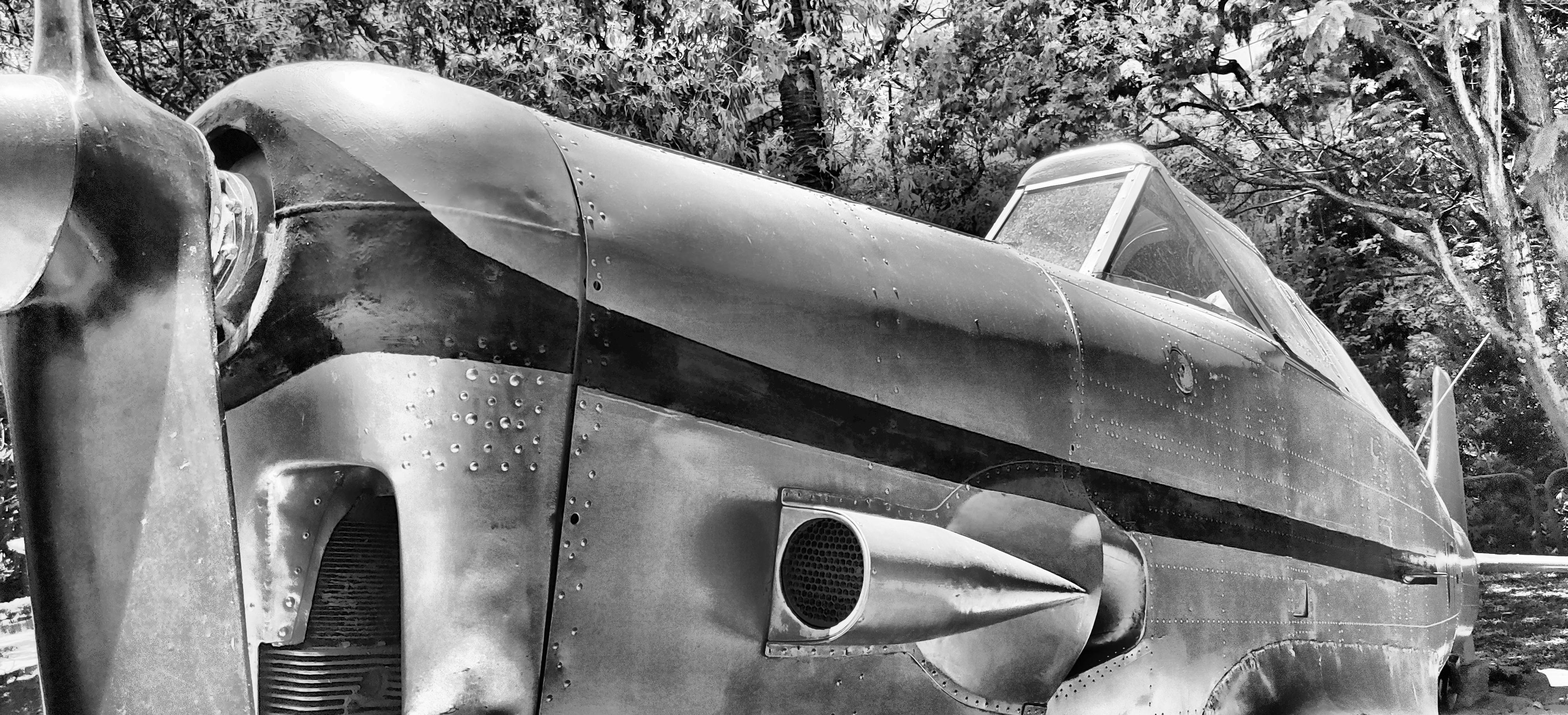dent: (66, 210, 103, 269), (523, 194, 540, 207)
missing-head: (591, 279, 604, 293), (569, 512, 580, 526), (1071, 444, 1075, 452), (844, 649, 849, 654), (785, 492, 790, 497), (810, 494, 814, 500), (768, 648, 772, 653), (796, 646, 801, 650), (797, 493, 802, 497)
